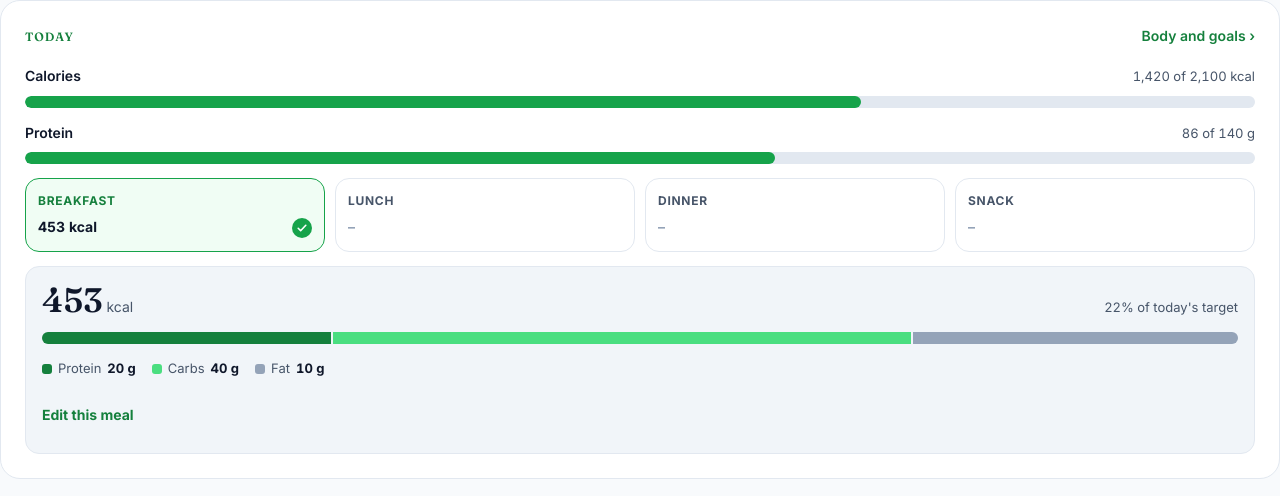
Test case: TodayCardComponent › food tab › shows Nothing logged and a Log action for a slot without a meal, following the picked slot
This screenshot has width=1280, height=496.
Click the tab with class "slot" showing "Dinner –": (683, 201) left=645, top=178, right=945, bottom=252
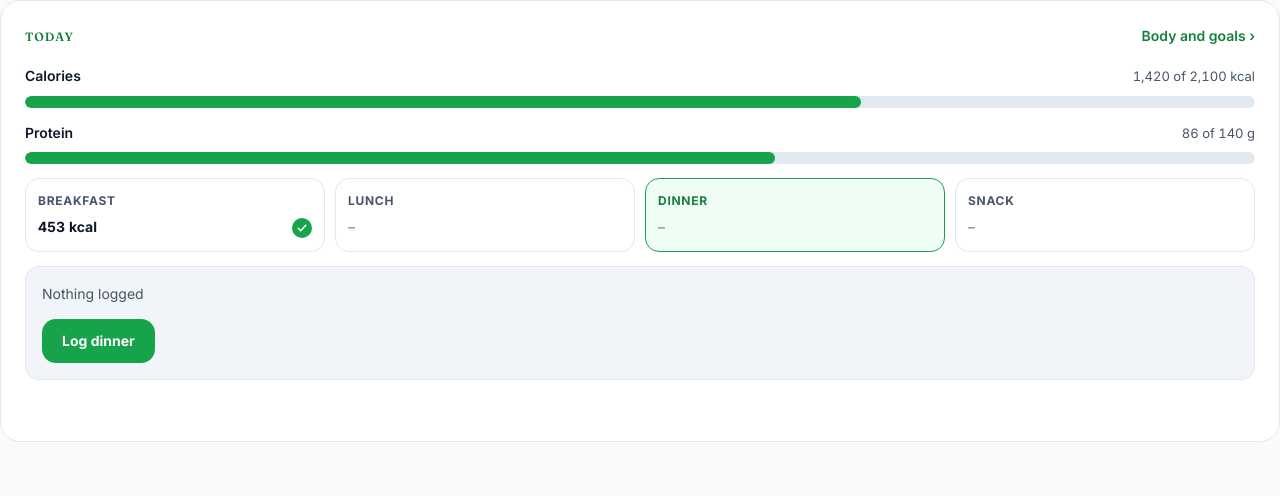
expect the link with class "action" reads "Log dinner": met, box left=42, top=319, right=155, bottom=363
Click the tab with class "slot" showing "Snack –": (991, 201) left=955, top=178, right=1255, bottom=252
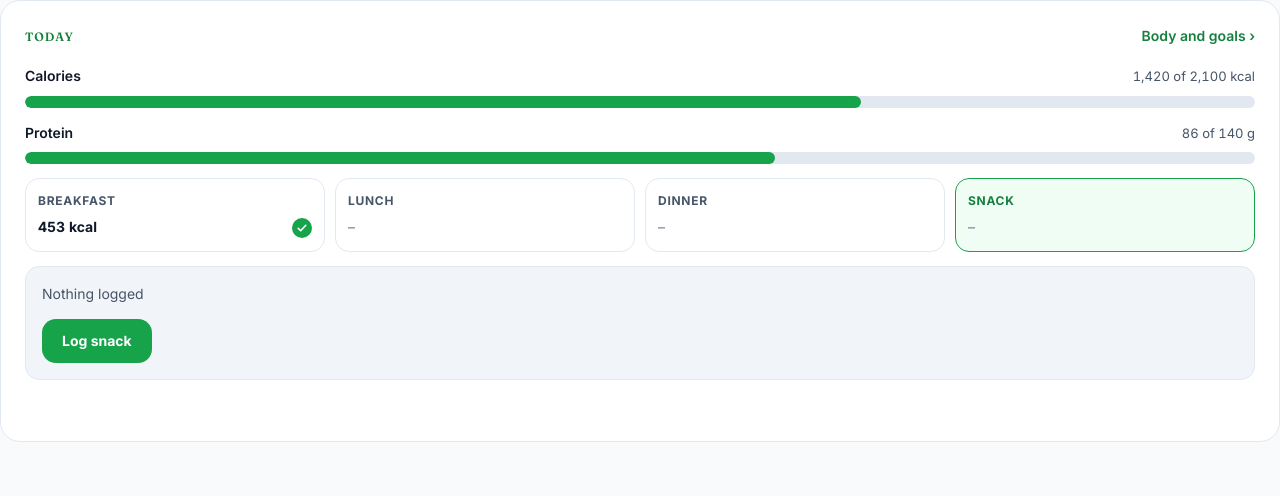
expect the link with class "action" reads "Log snack": met, box left=42, top=319, right=152, bottom=363
